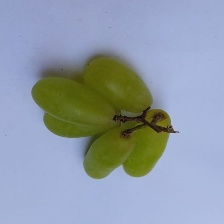grapes: (26, 32, 176, 186)
